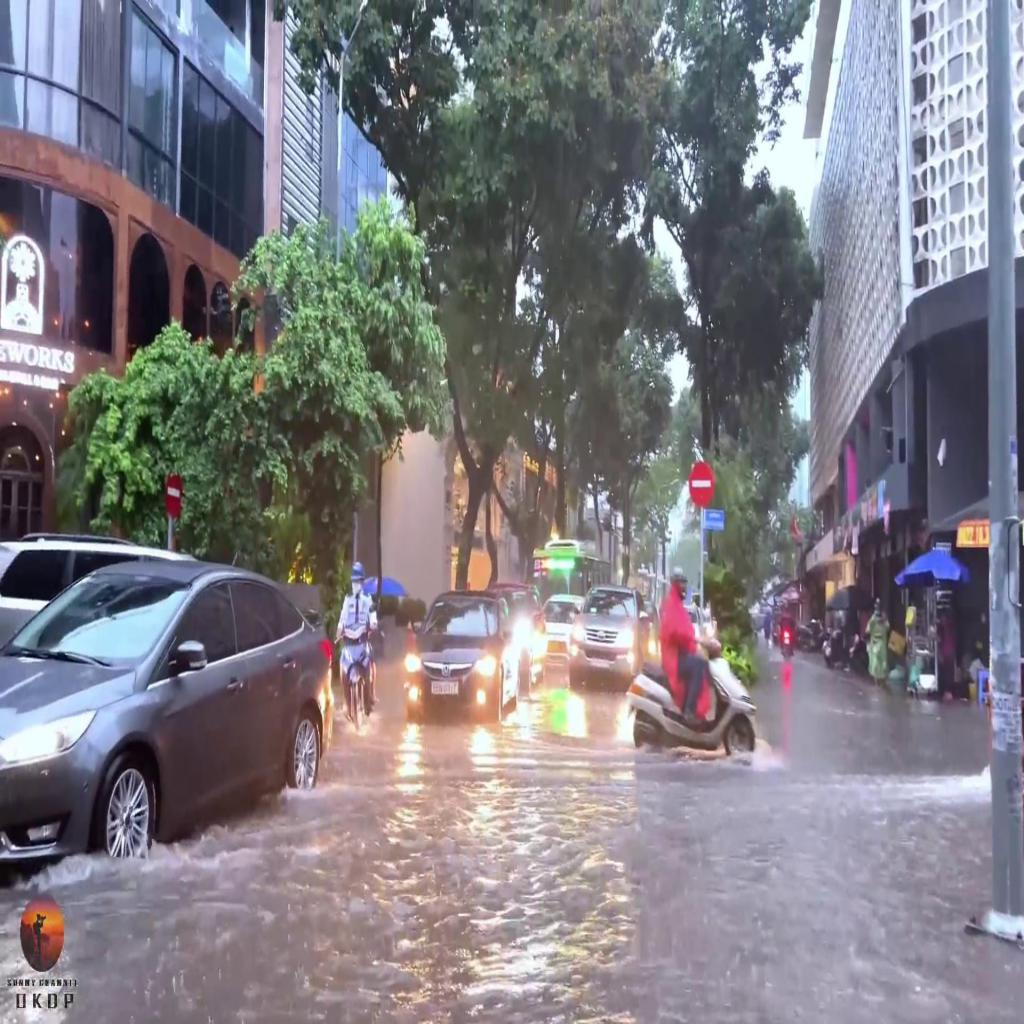cam_xe_di_nguoc_chieu: (689, 460, 713, 505), (165, 475, 182, 516)
